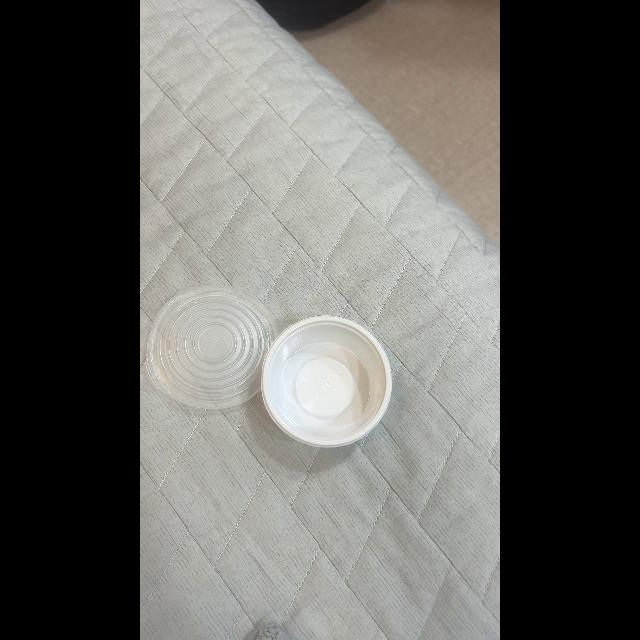clean: (261, 316, 394, 448), (148, 290, 274, 412)
